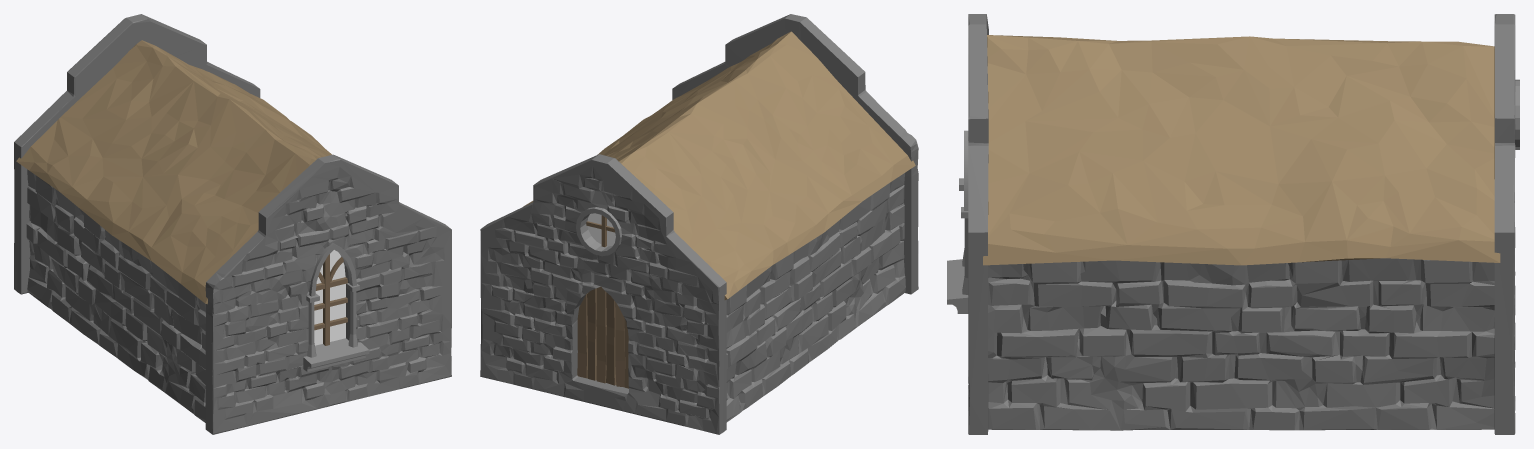
Rendered from church_b.FBX.
3 views of the same model, side by side, from view 1: azimuth 30°, elevation 25°; view 2: azimuth 150°, elevation 25°; view 3: azimuth 270°, elevation 25° (orthographic). The views are drawn at different scales.
Parts seen in each view (by area): view 1: church_b; view 2: church_b; view 3: church_b.
Boxes of the visible parts, box(x1,y1,x2,y2) form: church_b: box(14, 14, 451, 434); church_b: box(480, 14, 918, 434); church_b: box(947, 14, 1519, 434).
Size of the model in its own units: 5.79 by 5.51 by 8.51.
